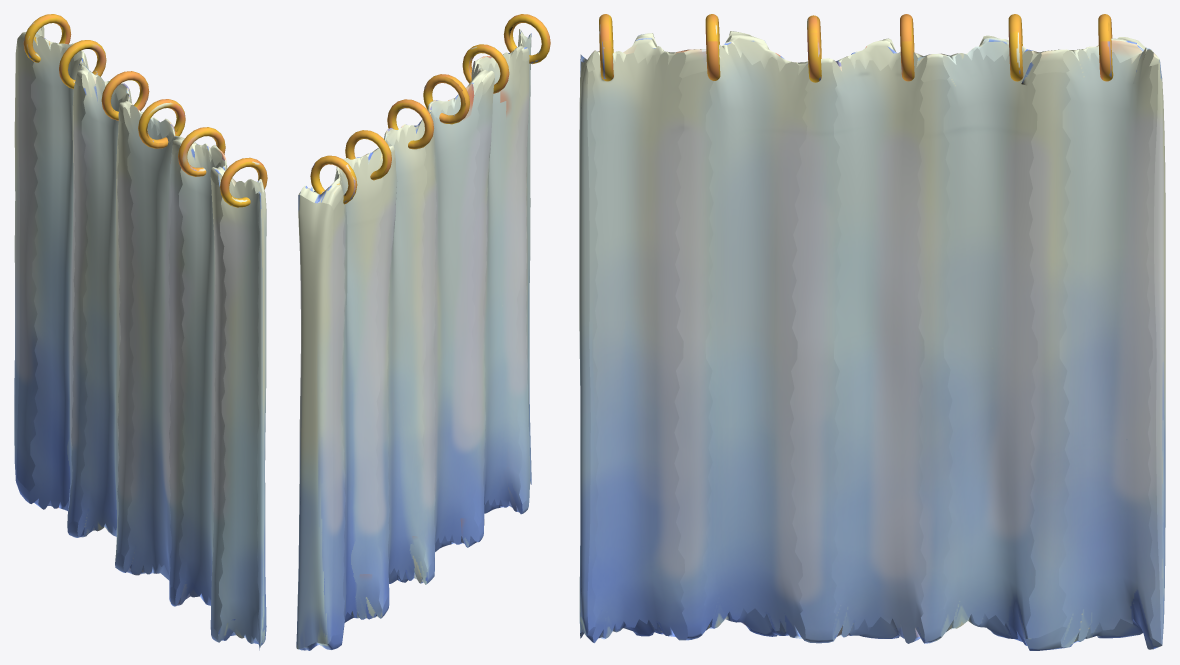
Rendered from cortina.fbx.
3 views of the same model, side by side, from view 1: azimuth 30°, elevation 25°; view 2: azimuth 150°, elevation 25°; view 3: azimuth 270°, elevation 25° (orthographic). The views are drawn at different scales.
Visible parts, largest first — view 1: pCube5, pTorus4, pTorus5, pTorus2, pTorus3, pTorus1, pTorus6; view 2: pCube5, pTorus4, pTorus2, pTorus5, pTorus6, pTorus1, pTorus3; view 3: pCube5, pTorus4, pTorus2, pTorus3, pTorus5, pTorus6, pTorus1.
Part boxes in pixels (x1,y1,x2,y2): pCube5: (14,26,266,650); pTorus4: (138,99,185,148); pTorus5: (101,71,149,120); pTorus2: (220,157,267,207); pTorus3: (59,40,106,88); pTorus1: (178,127,225,176); pTorus6: (23,14,71,62); pCube5: (296,29,531,650); pTorus4: (423,74,469,124); pTorus2: (503,14,550,64); pTorus5: (387,99,433,149); pTorus6: (310,155,357,204); pTorus1: (462,44,509,93); pTorus3: (345,130,391,180); pCube5: (579,31,1165,650); pTorus4: (807,15,821,82); pTorus2: (599,14,613,81); pTorus3: (1008,14,1023,81); pTorus5: (900,14,914,81); pTorus6: (1098,14,1113,81); pTorus1: (705,14,720,80).
Bounding box in the file's own units: 70.31 × 717 × 608.
Materials: 1 (1 with a texture image).
